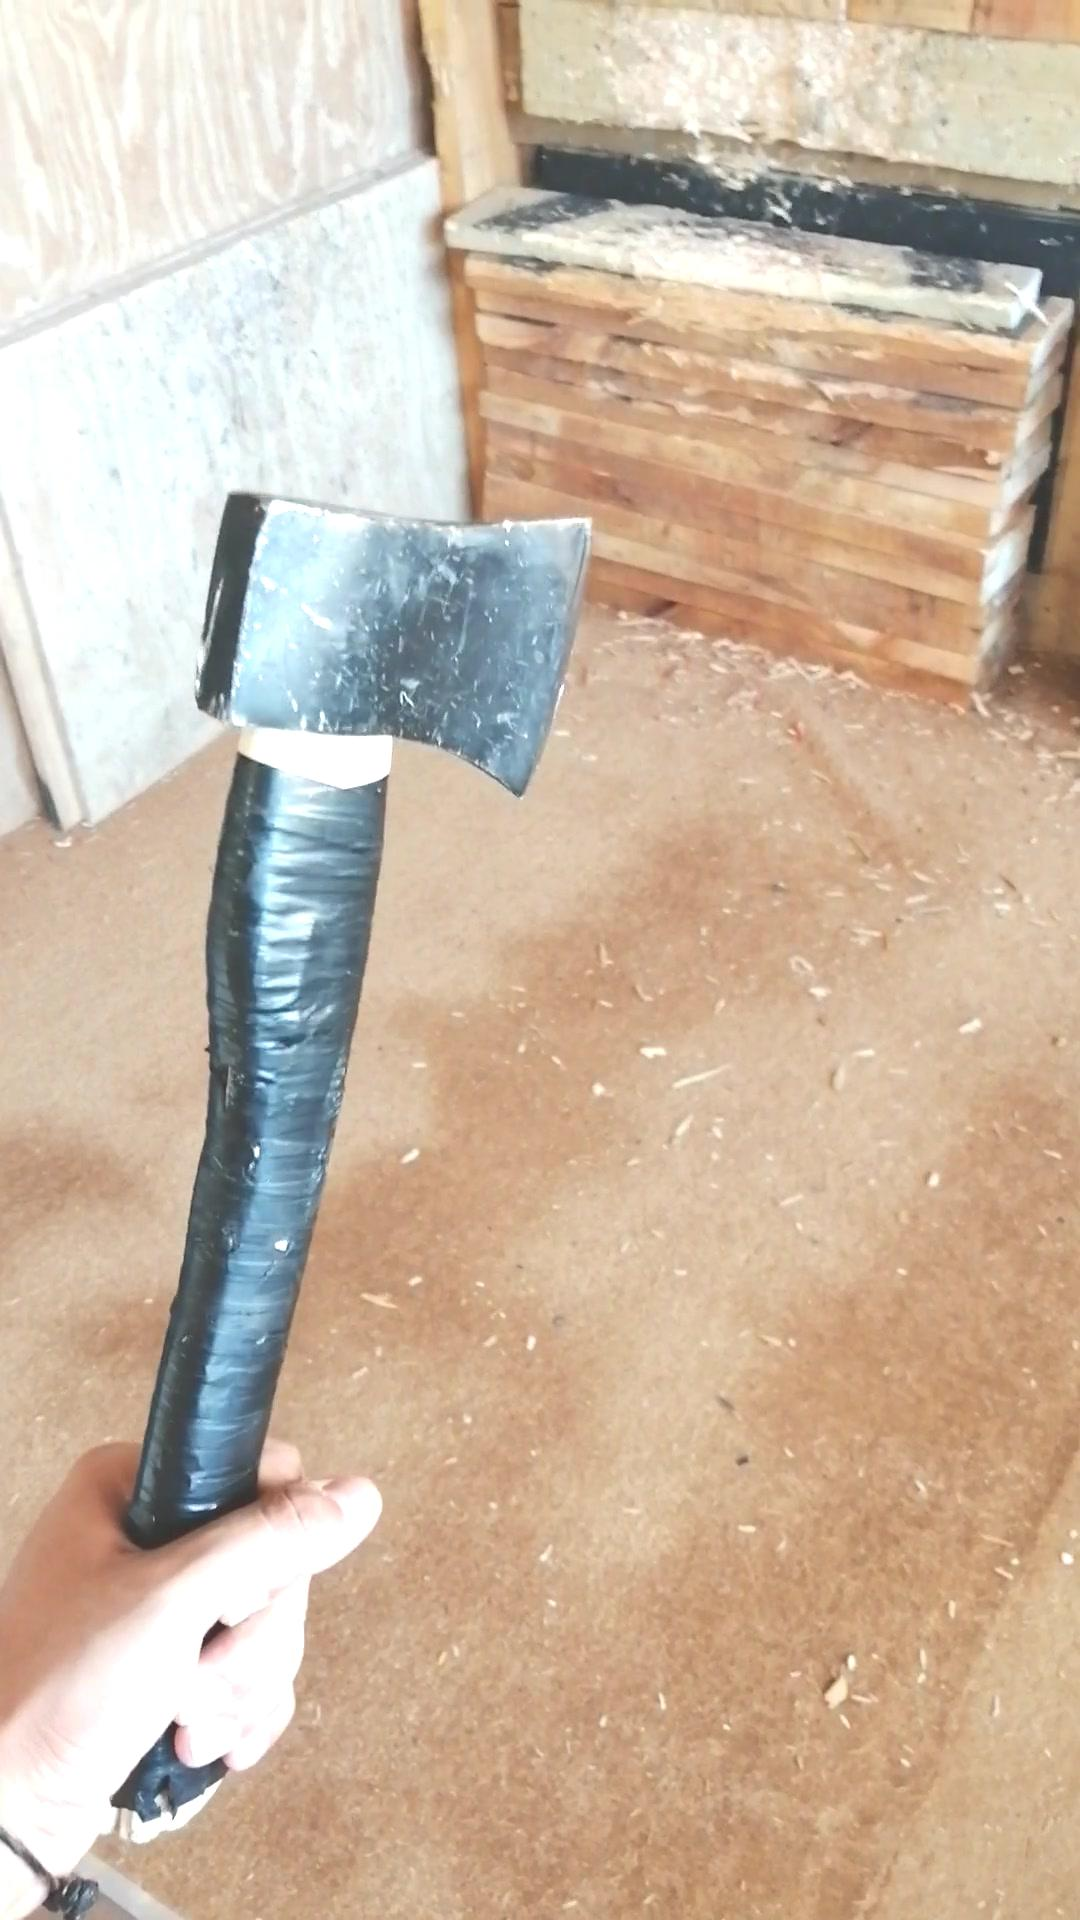Hand Axe: (186, 483, 598, 805)
